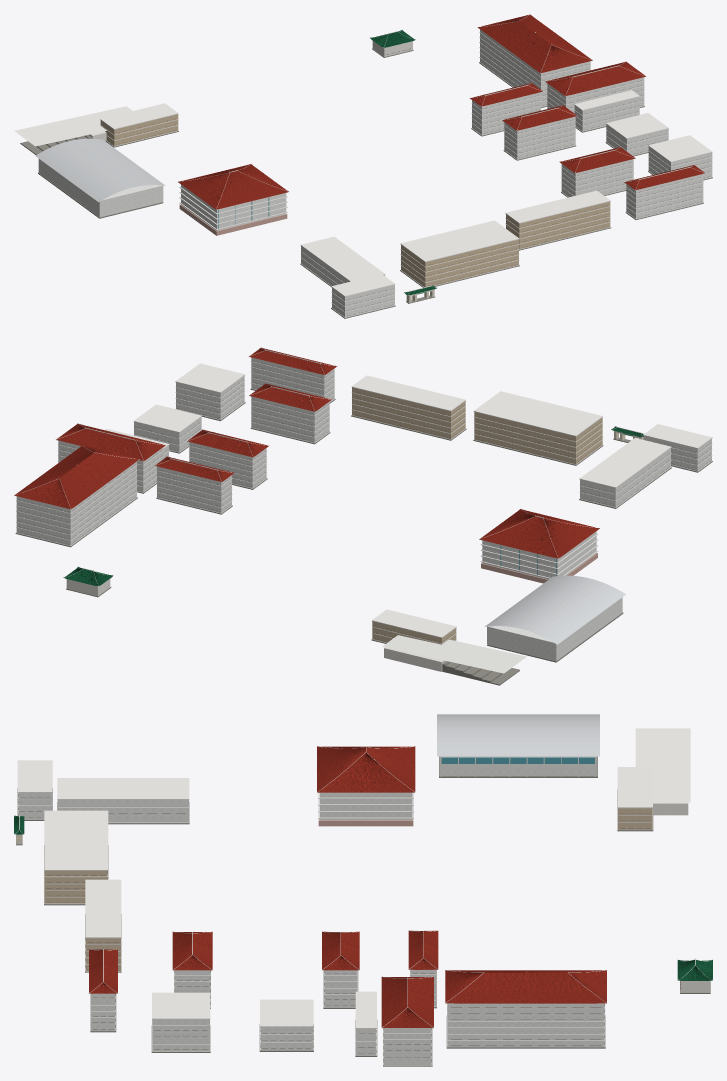
The model's file is r2_outer_campus_lod0.glb.
3 renders of one model, top to bottom at view 1: azimuth 30°, elevation 25°; view 2: azimuth 150°, elevation 25°; view 3: azimuth 270°, elevation 25°, orthographic. The views are drawn at different scales.
Parts seen in each view (by area): view 1: r2_outer_gymnasium, r2_outer_dorm_m_north, r2_outer_south_annex_w, r2_outer_dorm_f, r2_outer_south_annex_e, r2_outer_dorm_se_b, r2_outer_dorm_m_mid2, r2_outer_dorm_m_east1, r2_outer_dorm_se_a, r2_outer_canteen3, r2_outer_dorm_m_mid1, r2_outer_west_sports_annex (+6 smaller); view 2: r2_outer_dorm_m_north, r2_outer_gymnasium, r2_outer_south_annex_w, r2_outer_dorm_f, r2_outer_south_annex_e, r2_outer_stadium_stand, r2_outer_canteen3, r2_outer_dorm_se_a, r2_outer_dorm_m_mid1, r2_outer_east_hall_se, r2_outer_dorm_m_mid2, r2_outer_dorm_se_b (+5 smaller); view 3: r2_outer_dorm_m_north, r2_outer_gymnasium, r2_outer_dorm_f, r2_outer_south_annex_w, r2_outer_canteen3, r2_outer_dorm_m_east1, r2_outer_stadium_stand, r2_outer_east_hall_se, r2_outer_canteen1, r2_outer_south_annex_e, r2_outer_dorm_m_mid2, r2_outer_dorm_se_a (+6 smaller).
Boxes of the visible parts, x1,y1,x2,y2 form: r2_outer_gymnasium: (35,138,165,218); r2_outer_dorm_m_north: (477,14,592,107); r2_outer_south_annex_w: (400,220,519,287); r2_outer_dorm_f: (178,164,289,235); r2_outer_south_annex_e: (505,190,611,250); r2_outer_dorm_se_b: (624,165,705,219); r2_outer_dorm_m_mid2: (502,105,577,160); r2_outer_dorm_m_east1: (545,61,646,113); r2_outer_dorm_se_a: (559,147,635,197); r2_outer_canteen3: (300,236,385,287); r2_outer_dorm_m_mid1: (470,83,543,136); r2_outer_west_sports_annex: (100,103,178,147); r2_outer_dorm_m_north: (14,445,139,547); r2_outer_gymnasium: (484,575,625,662); r2_outer_south_annex_w: (473,391,603,465); r2_outer_dorm_f: (479,509,599,583); r2_outer_south_annex_e: (351,375,466,440); r2_outer_stadium_stand: (382,635,526,685); r2_outer_canteen3: (579,438,671,508); r2_outer_dorm_se_a: (249,383,331,444); r2_outer_dorm_m_mid1: (154,456,234,514); r2_outer_east_hall_se: (175,363,245,421); r2_outer_dorm_m_mid2: (187,429,269,489); r2_outer_dorm_se_b: (248,347,337,403); r2_outer_dorm_m_north: (445,970,606,1048); r2_outer_gymnasium: (437,714,599,777); r2_outer_dorm_f: (317,746,415,826); r2_outer_south_annex_w: (44,810,108,905); r2_outer_canteen3: (57,778,189,824); r2_outer_dorm_m_east1: (381,976,433,1066); r2_outer_stadium_stand: (635,728,690,815); r2_outer_east_hall_se: (151,992,210,1052); r2_outer_canteen1: (259,999,313,1051); r2_outer_south_annex_e: (85,879,121,972); r2_outer_dorm_m_mid2: (322,931,359,1008); r2_outer_dorm_se_a: (172,931,212,1008).
Bounding box in the file's own units: 354 × 30.52 × 316.
Materials: 20 (9 with a texture image).
